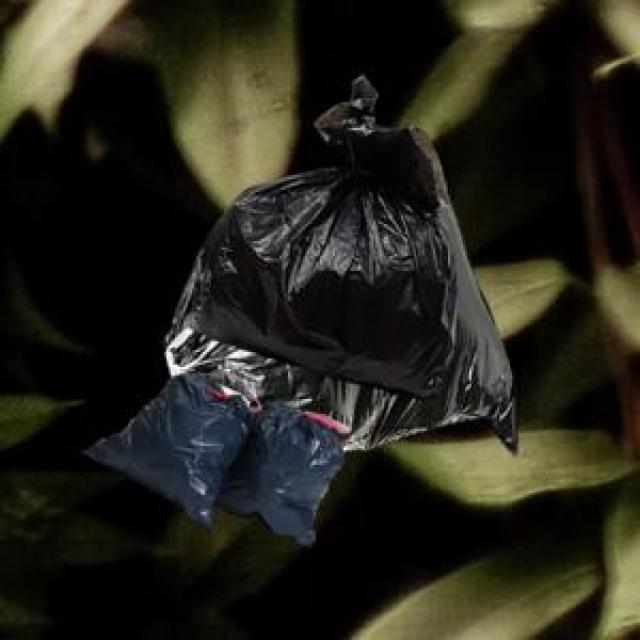miscellaneous trash: (158, 201, 514, 450), (179, 73, 452, 397), (79, 369, 346, 544)
